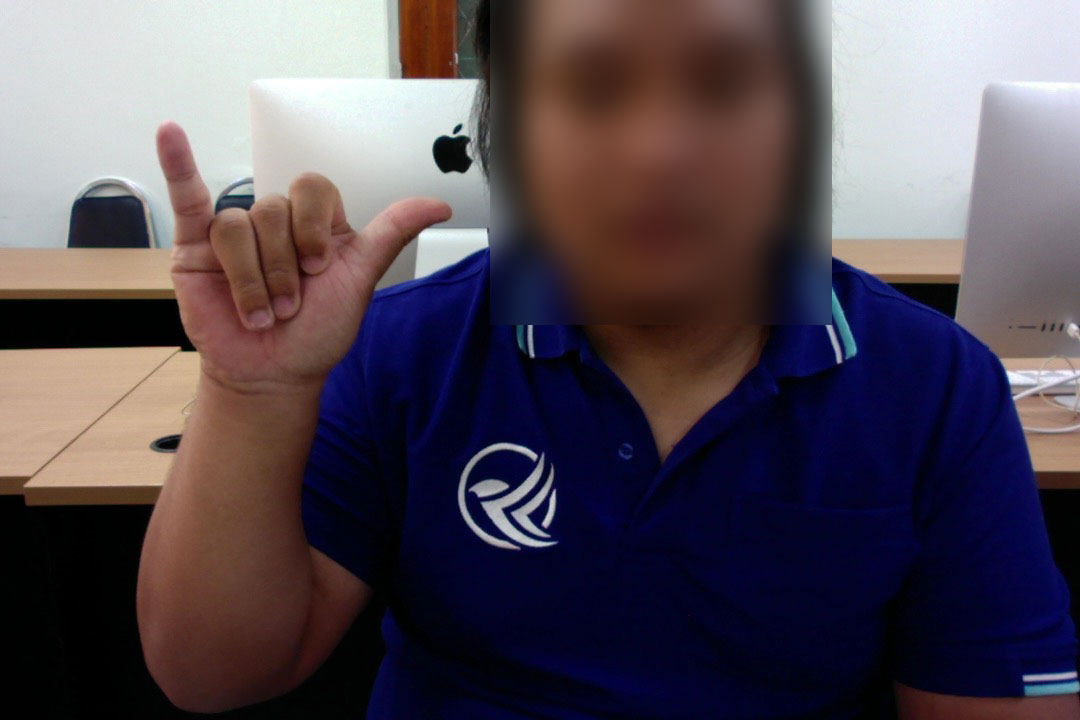yor: (142, 109, 460, 408)
